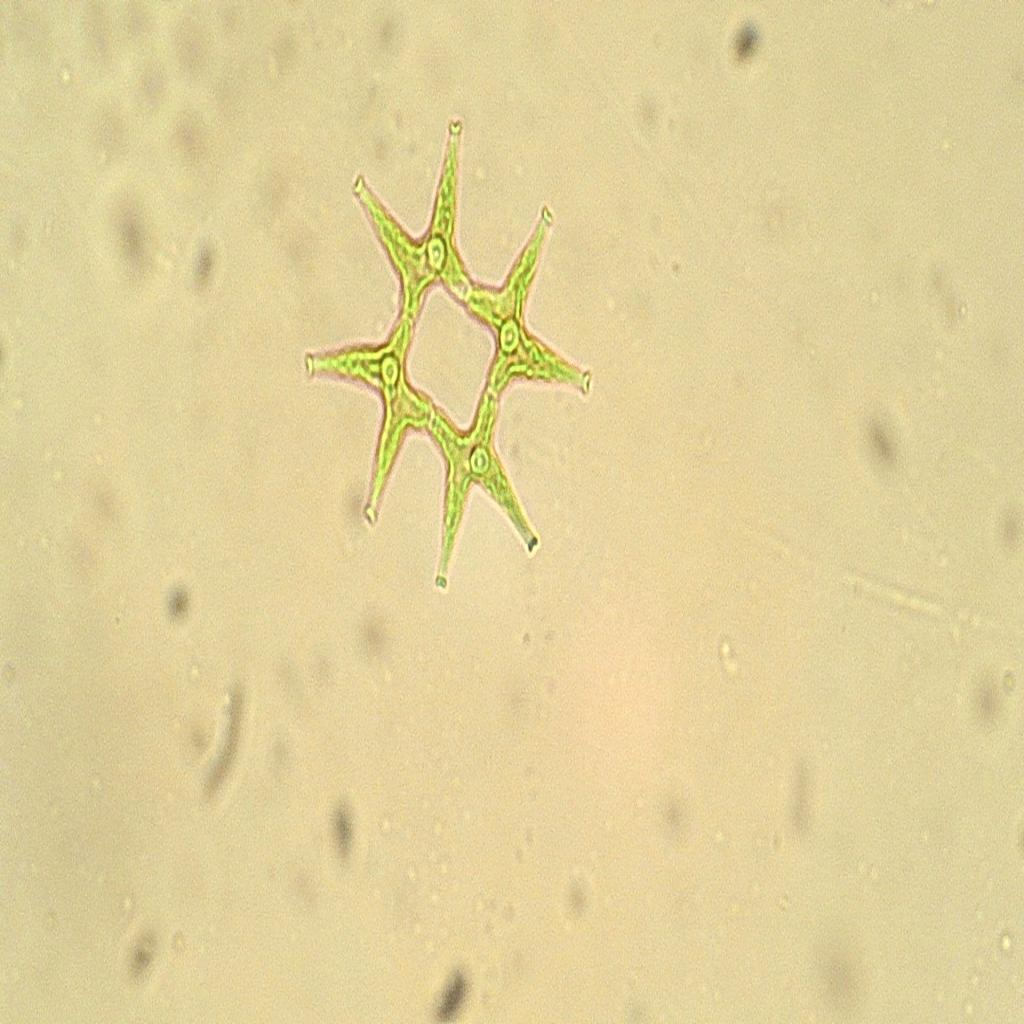Pediastrum_10: (280, 102, 634, 600)
